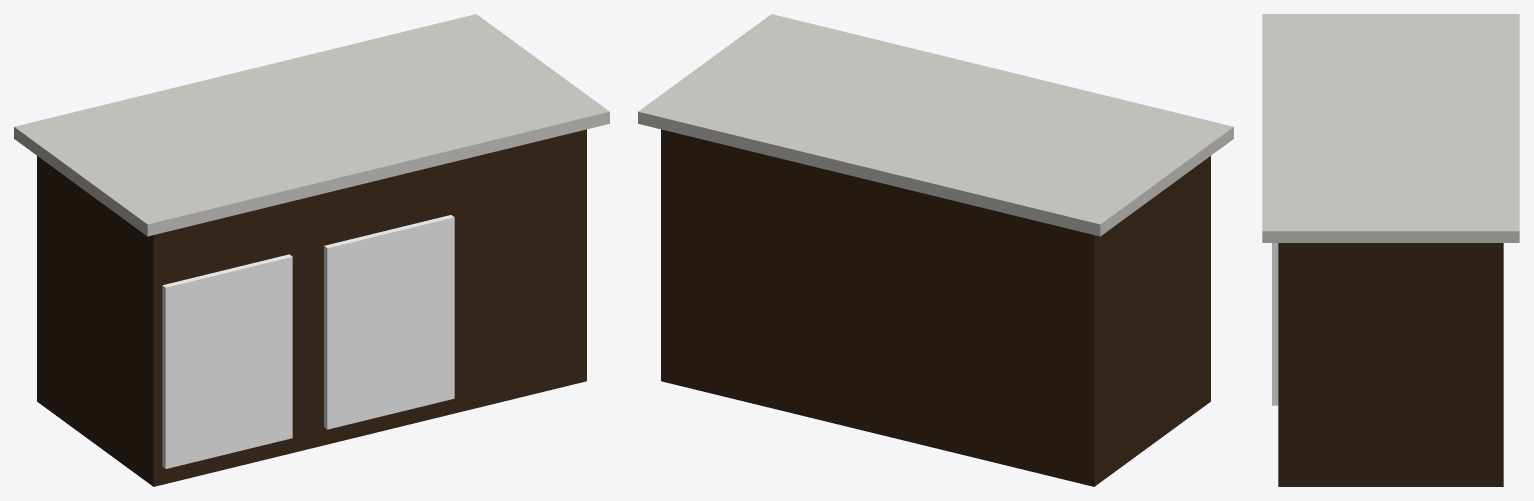
Rendered from kitchenisland.glb.
3 renders of one model, left to right at view 1: azimuth 30°, elevation 25°; view 2: azimuth 150°, elevation 25°; view 3: azimuth 270°, elevation 25°, orthographic. The views are drawn at different scales.
Visible parts, largest first — view 1: material-0-body, material-1-top, material-2-door; view 2: material-0-body, material-1-top; view 3: material-1-top, material-0-body, material-2-door.
Part boxes in pixels (x1=…): material-0-body: x1=37, y1=129, x2=586, y2=486; material-1-top: x1=14, y1=14, x2=609, y2=236; material-2-door: x1=162, y1=215, x2=454, y2=468; material-0-body: x1=661, y1=129, x2=1210, y2=486; material-1-top: x1=638, y1=14, x2=1233, y2=236; material-1-top: x1=1262, y1=14, x2=1519, y2=242; material-0-body: x1=1278, y1=243, x2=1503, y2=486; material-2-door: x1=1272, y1=243, x2=1278, y2=405.
Bounding box in the file's own units: 1.6 × 0.9 × 0.8.
